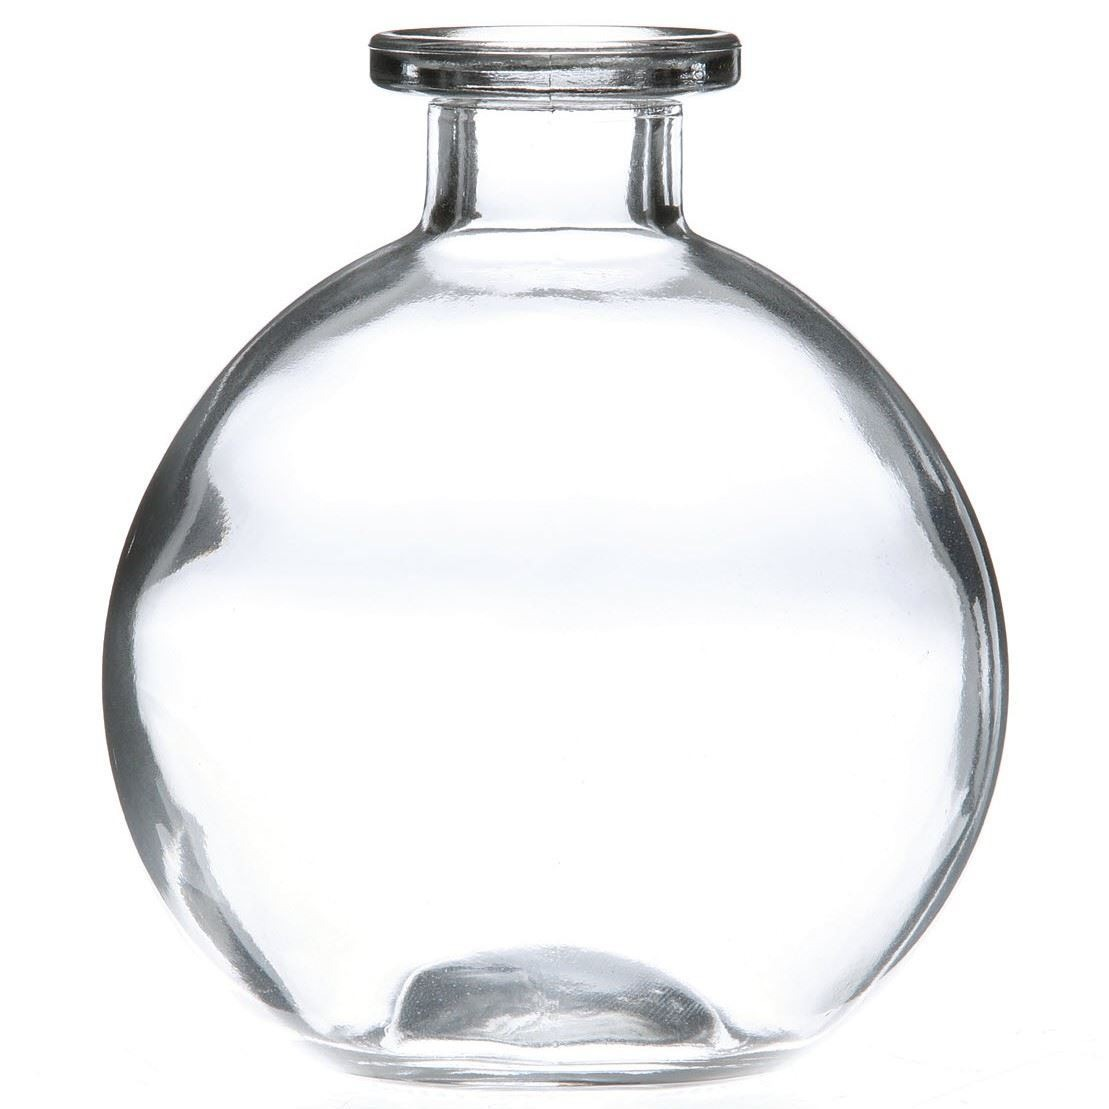container: (88, 16, 1026, 1096)
